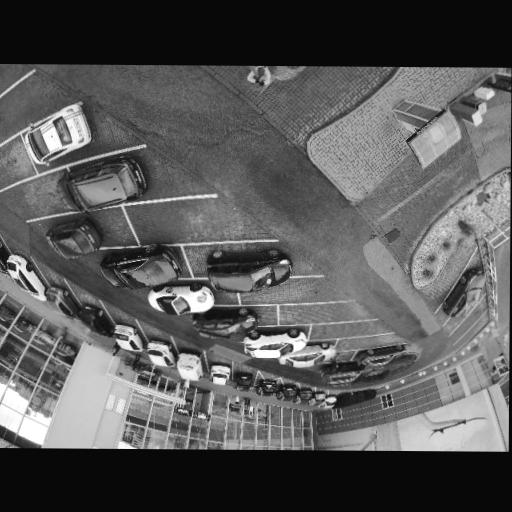busy: (12, 102, 92, 164), (62, 157, 149, 211), (199, 249, 298, 295), (103, 249, 181, 287), (151, 282, 218, 316), (44, 220, 101, 259), (191, 307, 257, 339), (244, 326, 306, 360), (444, 272, 488, 317), (4, 257, 51, 296), (283, 341, 336, 370), (355, 344, 404, 367), (77, 303, 113, 334), (112, 322, 145, 354), (44, 287, 79, 317), (175, 350, 206, 381), (144, 339, 176, 368), (323, 362, 359, 384), (207, 363, 230, 387), (232, 372, 255, 391), (255, 379, 278, 398), (278, 385, 299, 401), (298, 389, 312, 402), (311, 391, 326, 403)
free: (9, 79, 63, 122), (141, 200, 190, 233), (19, 183, 60, 210), (255, 284, 291, 306), (305, 300, 331, 328), (436, 266, 462, 292), (462, 311, 481, 336), (342, 321, 367, 338), (356, 337, 380, 347)
